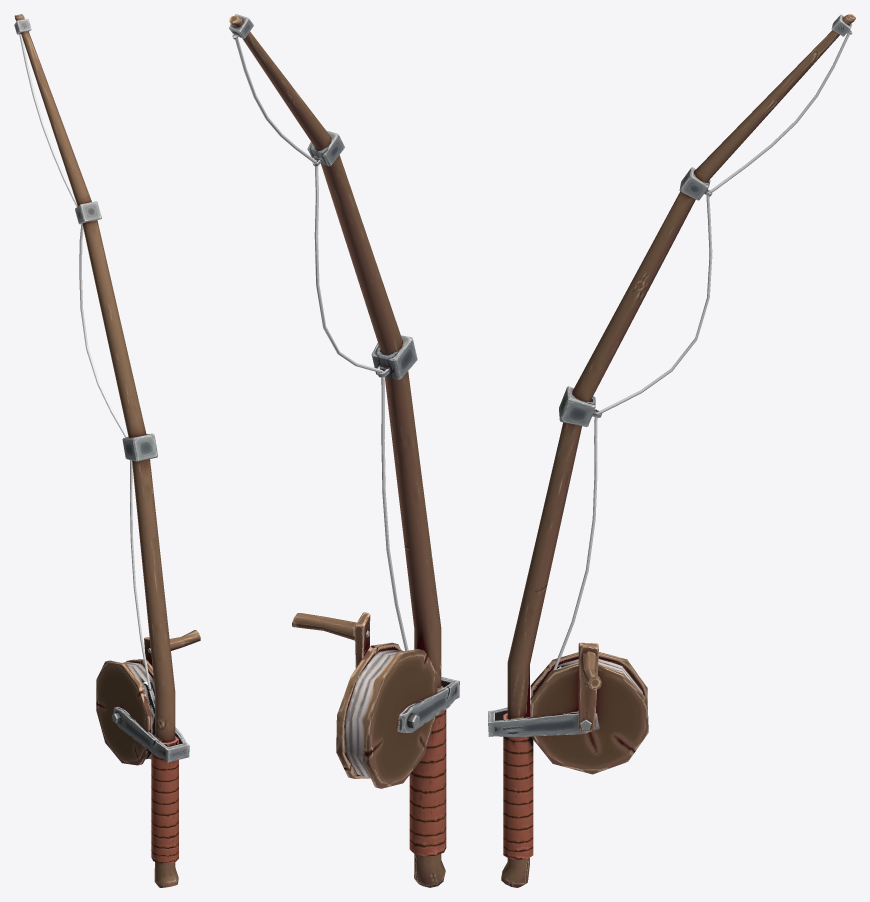
File: fishing_rod.fbx
3 renders of one model, left to right at view 1: azimuth 30°, elevation 25°; view 2: azimuth 150°, elevation 25°; view 3: azimuth 270°, elevation 25°, orthographic. The views are drawn at different scales.
Visible parts, largest first — view 1: fishing_rod; view 2: fishing_rod; view 3: fishing_rod.
Boxes of the visible parts, left/top/right/bottom form: fishing_rod: left=14, top=14, right=200, bottom=887; fishing_rod: left=229, top=14, right=459, bottom=887; fishing_rod: left=488, top=14, right=855, bottom=887.
Bounding box in the file's own units: 2.73 × 22.57 × 8.64.
1 material, 1 textured.
